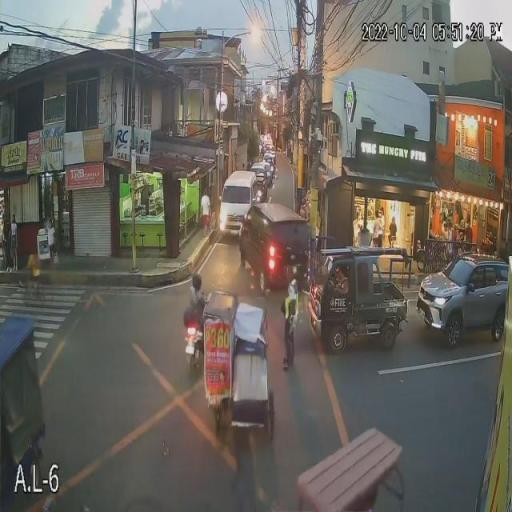helmet: (185, 265, 207, 293)
motorcycle: (188, 291, 206, 373)
rider: (178, 283, 209, 340)
